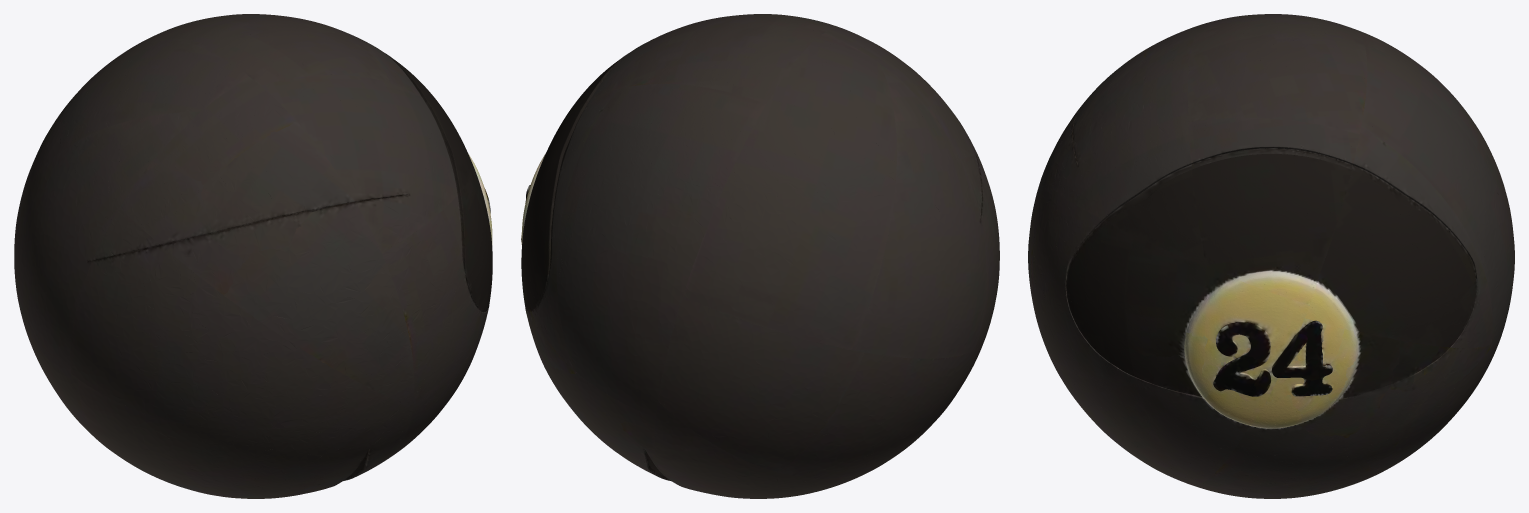
File: biab.glb
3 views of the same model, side by side, from view 1: azimuth 30°, elevation 25°; view 2: azimuth 150°, elevation 25°; view 3: azimuth 270°, elevation 25° (orthographic).
Visible parts, largest first — view 1: tripo_node_2ba648ac-446e-4899-9044-7d4a67190029; view 2: tripo_node_2ba648ac-446e-4899-9044-7d4a67190029; view 3: tripo_node_2ba648ac-446e-4899-9044-7d4a67190029.
Boxes of the visible parts, bbox=[...] form: tripo_node_2ba648ac-446e-4899-9044-7d4a67190029: bbox=[14, 14, 492, 498]; tripo_node_2ba648ac-446e-4899-9044-7d4a67190029: bbox=[521, 14, 999, 498]; tripo_node_2ba648ac-446e-4899-9044-7d4a67190029: bbox=[1028, 14, 1514, 498].
Bounding box in the file's own units: 0.9789 × 0.9783 × 0.9778.
1 material, 1 textured.
